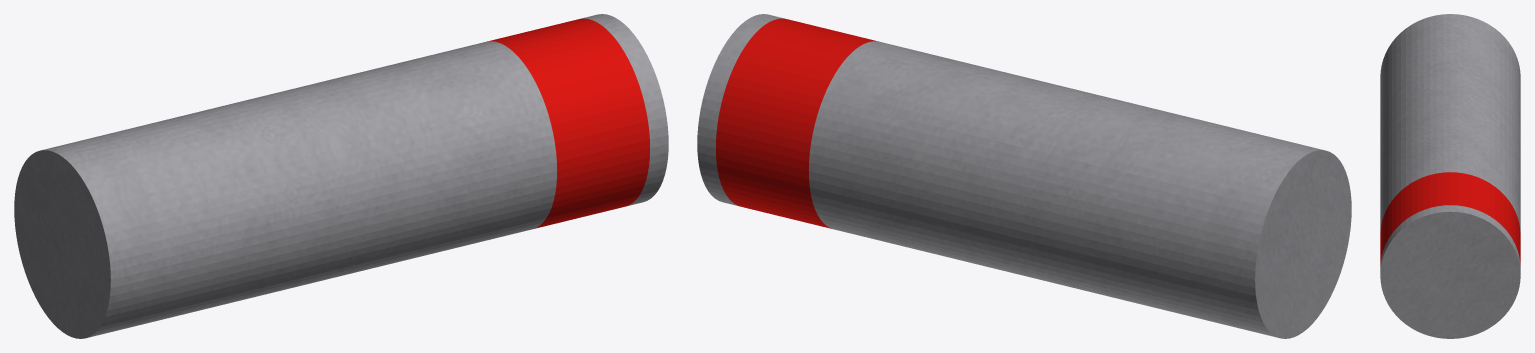
Rendered from rotor_lock_pin.glb.
3 renders of one model, left to right at view 1: azimuth 30°, elevation 25°; view 2: azimuth 150°, elevation 25°; view 3: azimuth 270°, elevation 25°, orthographic. The views are drawn at different scales.
Parts seen in each view (by area): view 1: rotor_lock_pin; view 2: rotor_lock_pin; view 3: rotor_lock_pin.
Part boxes in pixels (<box>): rotor_lock_pin: <box>14,14,668,338</box>; rotor_lock_pin: <box>697,14,1351,338</box>; rotor_lock_pin: <box>1380,14,1520,338</box>.
Size of the model in its own units: 0.3 by 0.09 by 0.09.
Materials: 2 (1 with a texture image).
